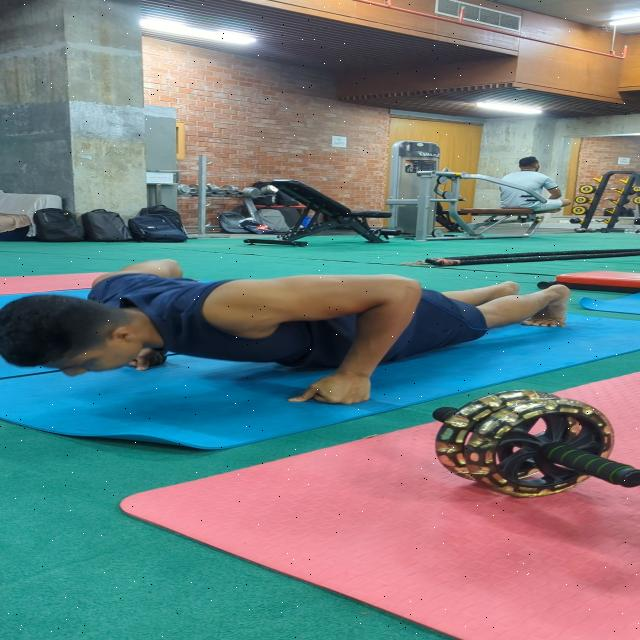Normal_PushUps: (0, 267, 581, 410)
